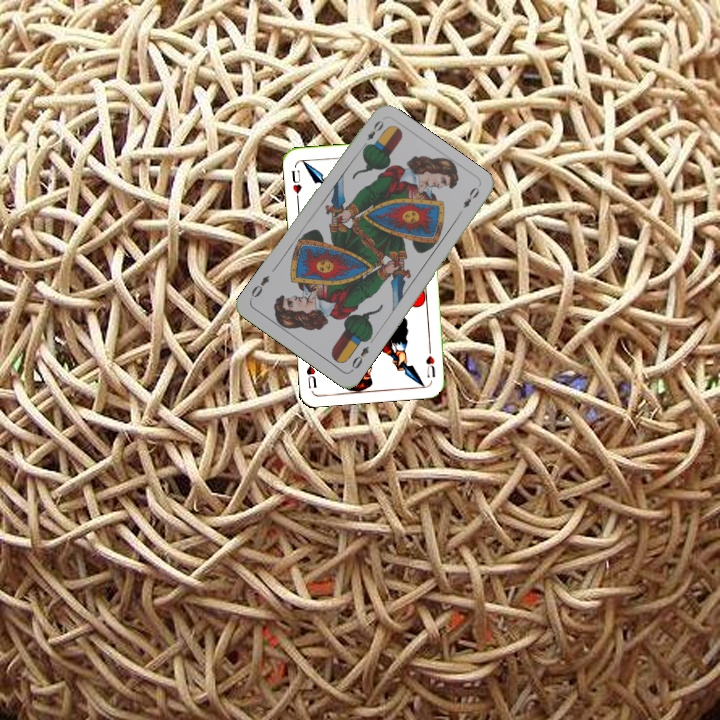EO: (357, 116, 386, 152), (347, 342, 372, 374)
HU: (287, 166, 304, 203), (422, 341, 438, 380)
